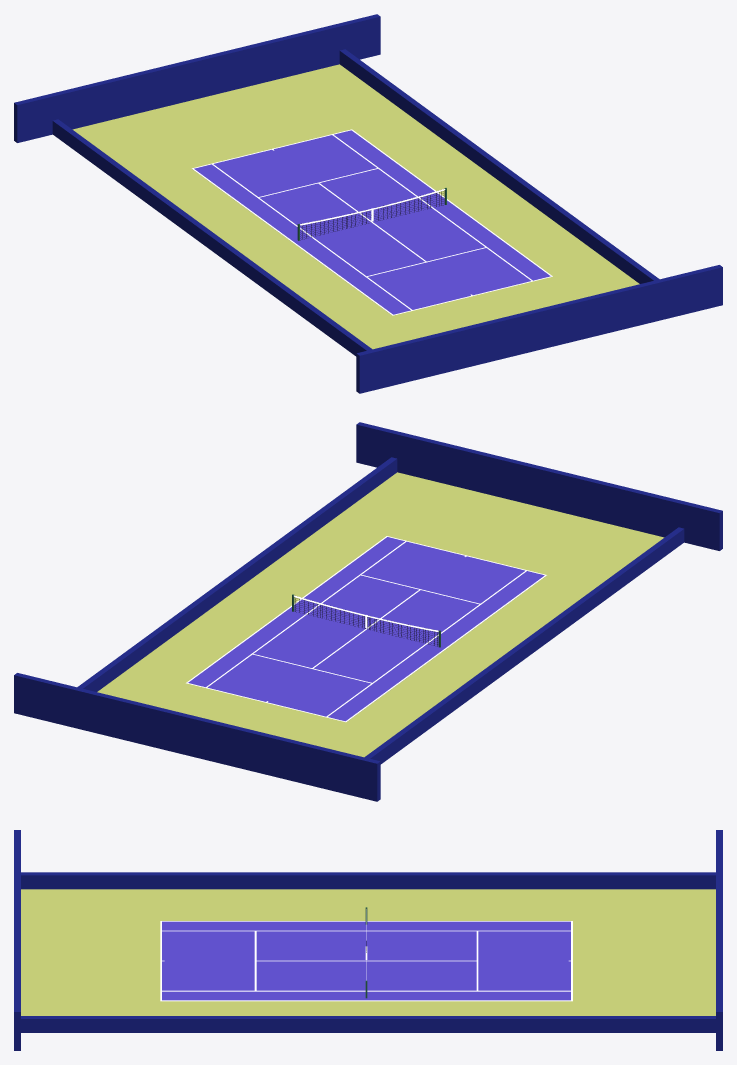
File: tennis_court.glb
3 renders of one model, top to bottom at view 1: azimuth 30°, elevation 25°; view 2: azimuth 150°, elevation 25°; view 3: azimuth 270°, elevation 25°, orthographic. The views are drawn at different scales.
Parts seen in each view (by area): view 1: Green_Court, Main_Court, Backboard2, Backboard1, Side2, Side1, Net; view 2: Green_Court, Main_Court, Backboard1, Backboard2, Side2, Side1, Net; view 3: Green_Court, Main_Court, Side2, Side1, Backboard2, Backboard1, Side_Line1, Side_Line_Inner2, Side_Line_Inner1, Centre_Line, Side_Line2.
Part boxes in pixels (box(x1,y1,x2,y2)): Green_Court: box(72, 64, 639, 349); Main_Court: box(194, 130, 550, 314); Backboard2: box(356, 265, 722, 393); Backboard1: box(14, 14, 380, 142); Side2: box(52, 119, 372, 356); Side1: box(339, 49, 659, 283); Net: box(300, 191, 443, 240); Green_Court: box(97, 472, 664, 757); Main_Court: box(188, 537, 544, 721); Backboard1: box(14, 673, 380, 801); Backboard2: box(356, 422, 722, 550); Side2: box(364, 527, 684, 764); Side1: box(77, 457, 397, 691); Net: box(294, 597, 437, 646); Green_Court: box(21, 889, 715, 1015); Main_Court: box(162, 921, 570, 1000); Side2: box(21, 872, 715, 889); Side1: box(21, 1016, 715, 1032); Backboard2: box(14, 830, 20, 1050); Backboard1: box(716, 830, 722, 1050); Side_Line1: box(162, 1000, 570, 1001); Side_Line_Inner2: box(162, 930, 570, 931); Side_Line_Inner1: box(162, 990, 570, 991); Centre_Line: box(256, 960, 476, 961); Side_Line2: box(162, 921, 570, 921).
Bounding box in the file's own units: 25 × 2.5 × 41.21.
